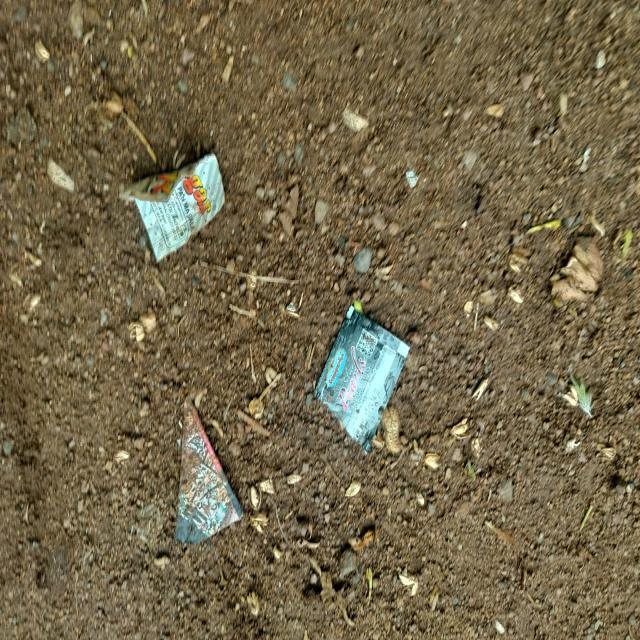paper: (145, 391, 260, 561)
plastic: (297, 292, 417, 449), (104, 162, 264, 278)
